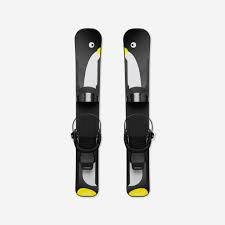skis: (73, 27, 152, 197)
